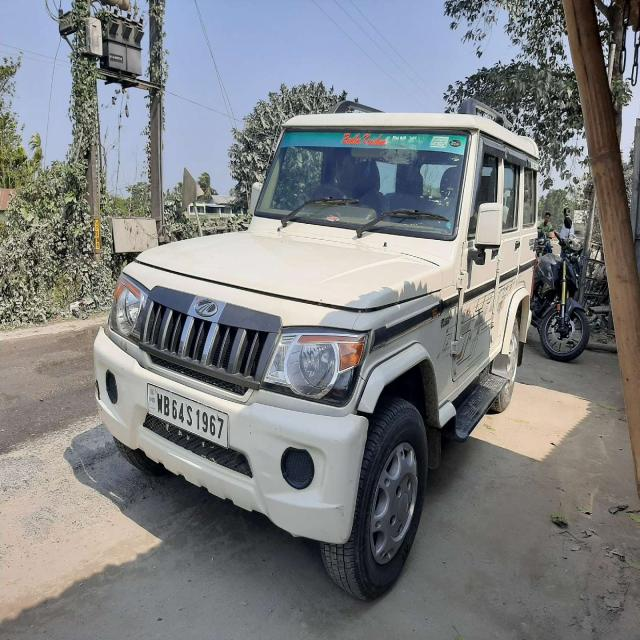light_vehicle: (88, 110, 546, 536)
